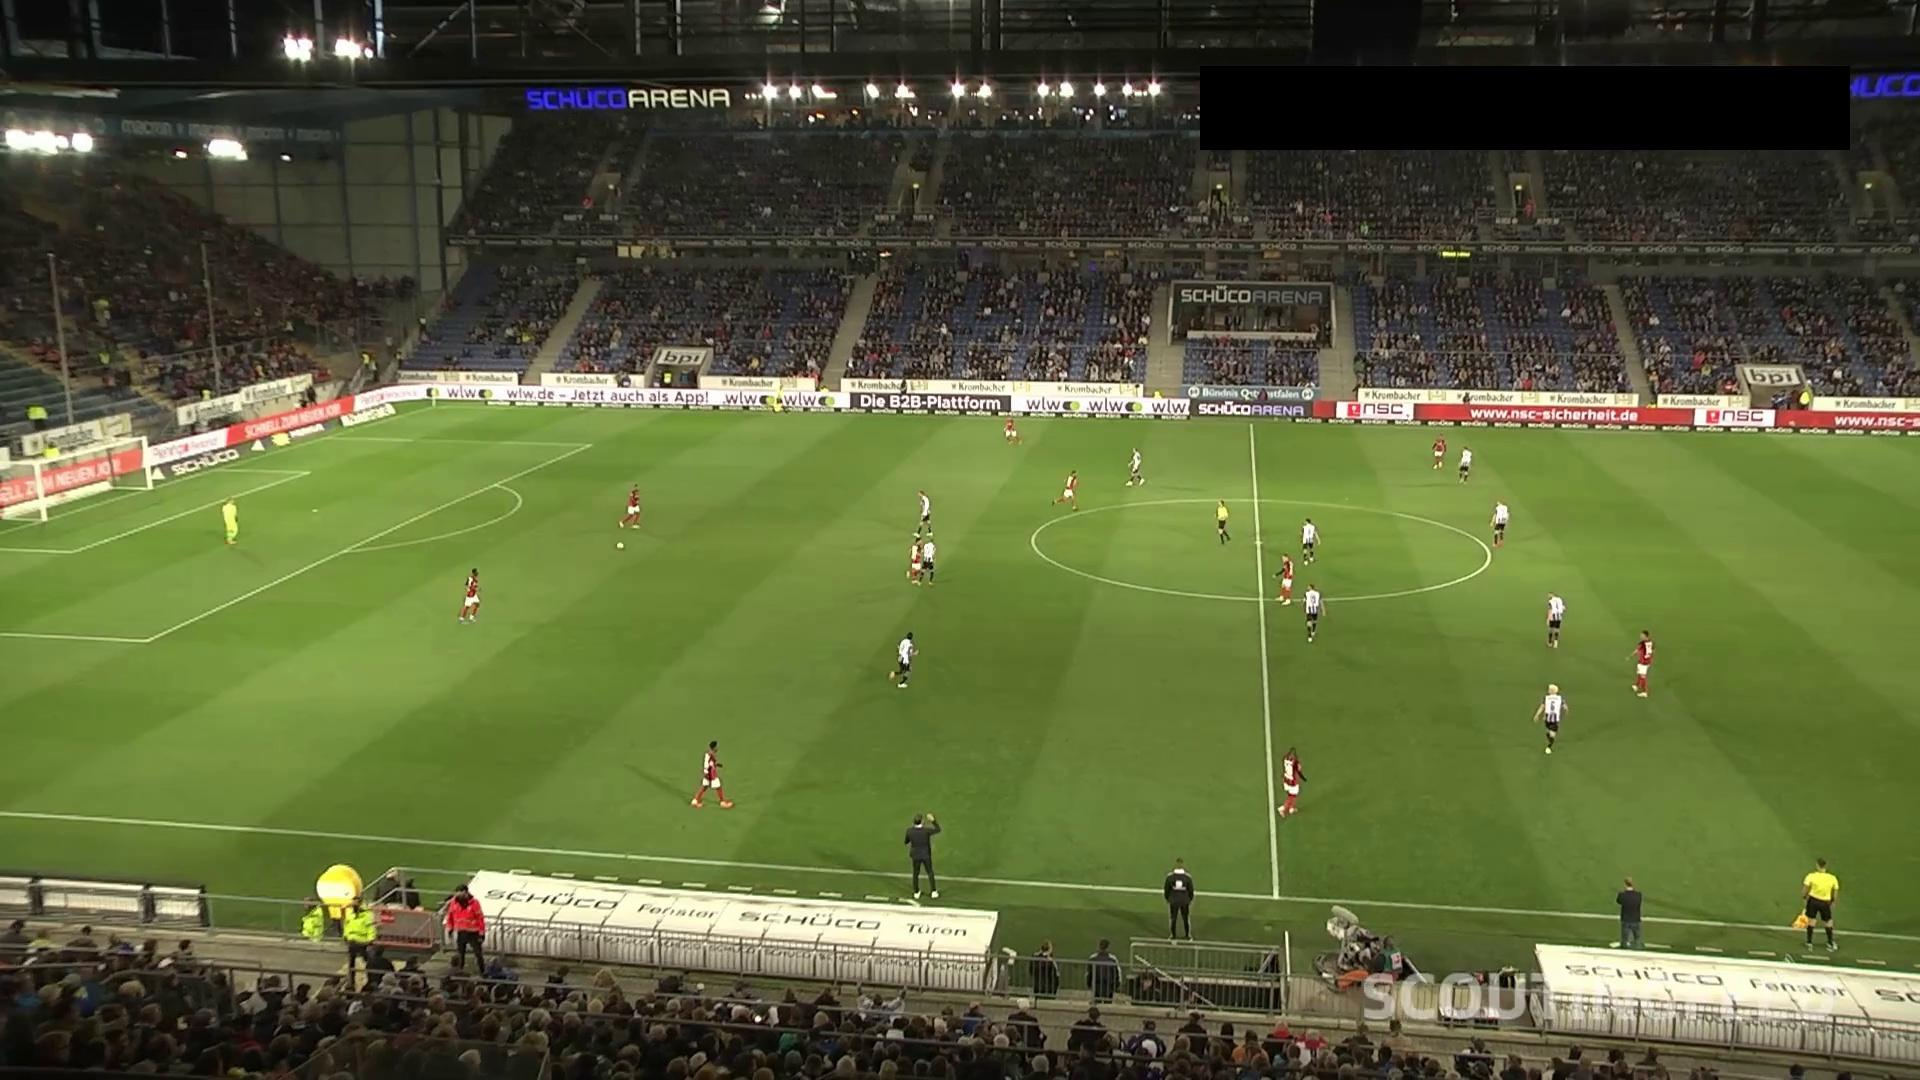Location-of-ball: (607, 535, 636, 562)
